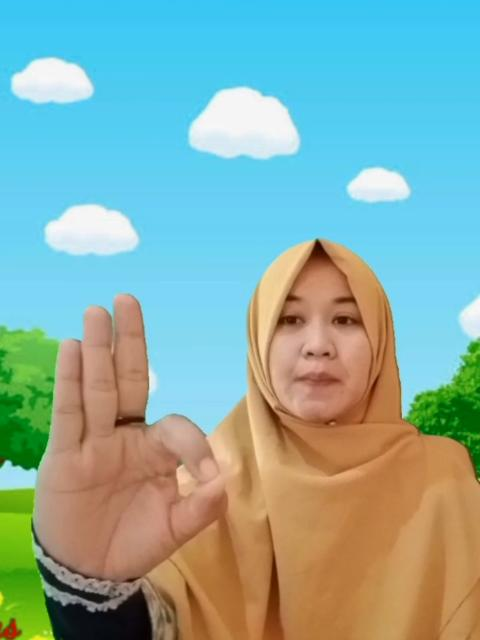F: (32, 290, 230, 582)
